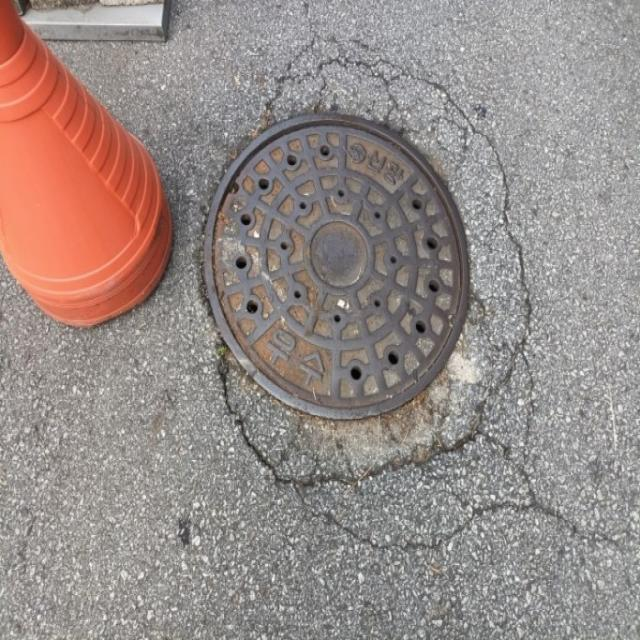manhole: (202, 113, 471, 422)
